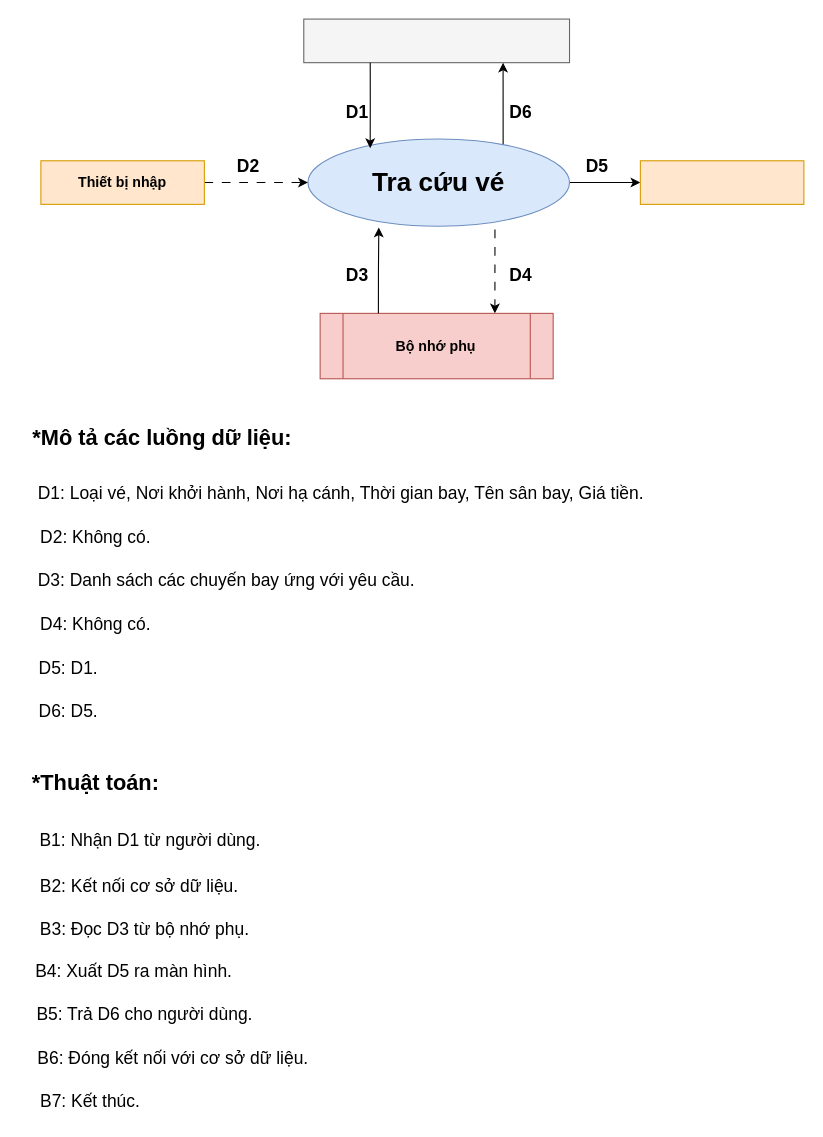
Image size: 823x1137. Some labels were removed from this diagram. Each missing label, with the box of its shape:
Người dùng: (303, 18, 570, 63)
Thiết bị xuất: (639, 160, 804, 204)
